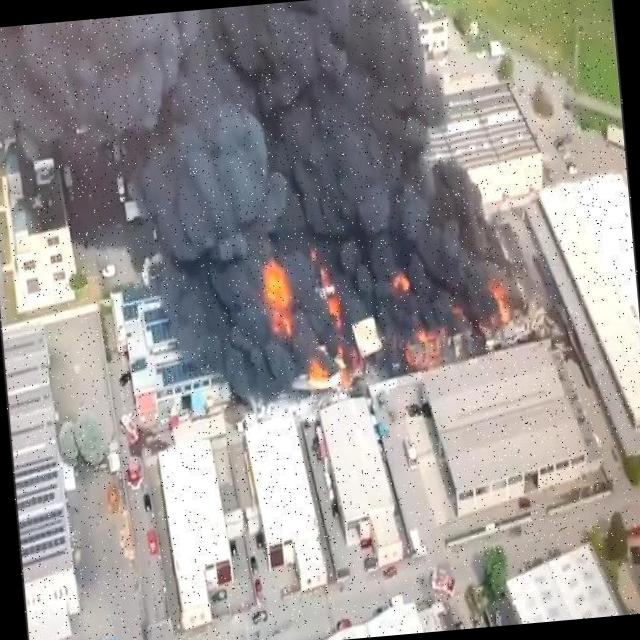Smoke: (0, 0, 500, 250), (146, 202, 539, 390)
